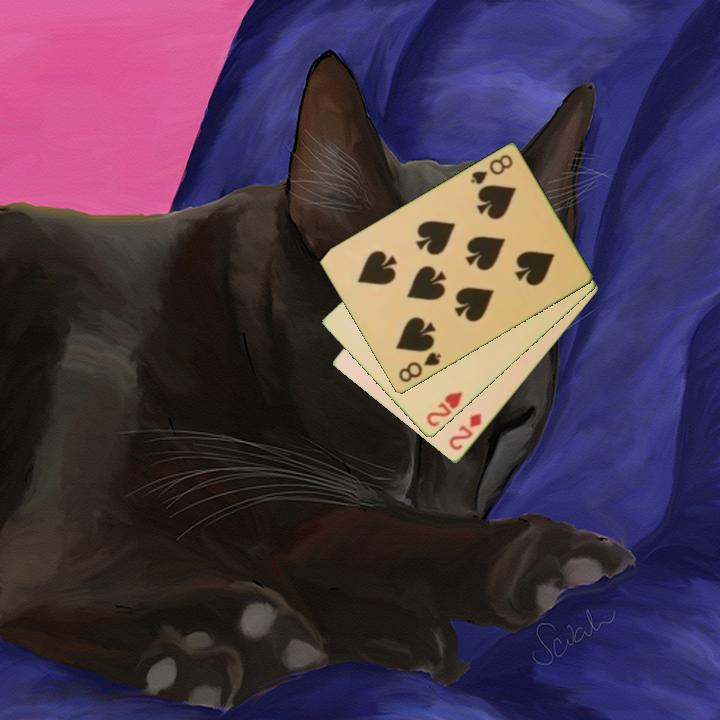2d: (445, 410, 485, 454)
2h: (423, 388, 466, 430)
8s: (395, 349, 444, 386), (467, 151, 516, 188)
